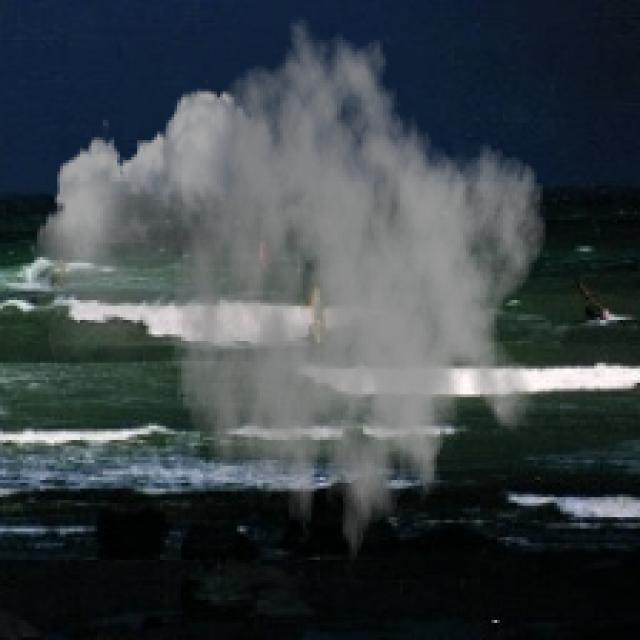smoke: (29, 17, 548, 586)
